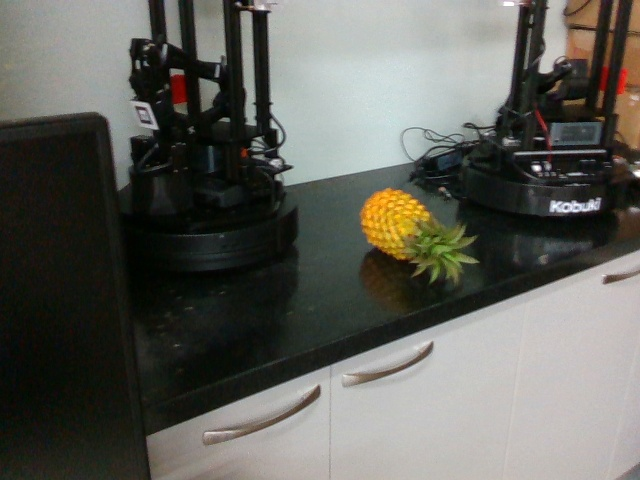pineapple: (359, 188, 478, 288)
